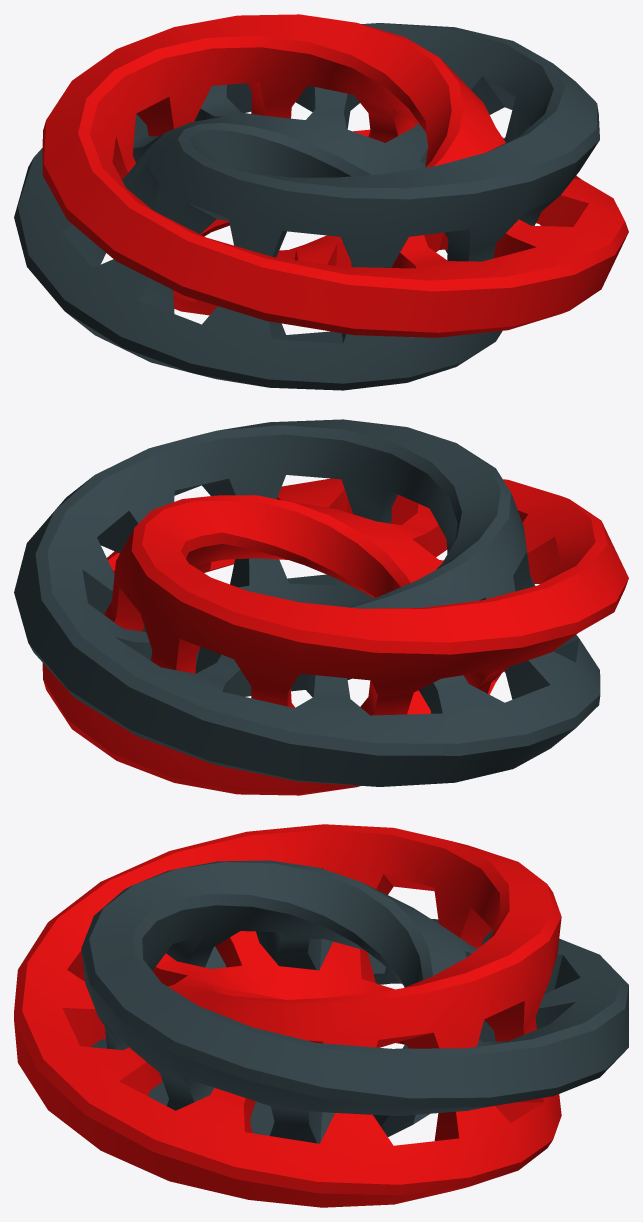
The model's file is Strict.fbx.
3 views of the same model, one above another, from view 1: azimuth 30°, elevation 25°; view 2: azimuth 150°, elevation 25°; view 3: azimuth 270°, elevation 25° (orthographic).
Parts seen in each view (by area): view 1: Object; view 2: Object; view 3: Object.
Part boxes in pixels (bbox=[...]): Object: bbox=[14, 14, 628, 390]; Object: bbox=[14, 419, 628, 795]; Object: bbox=[14, 824, 628, 1207].
Size of the model in its own units: 238 by 85.94 by 249.
